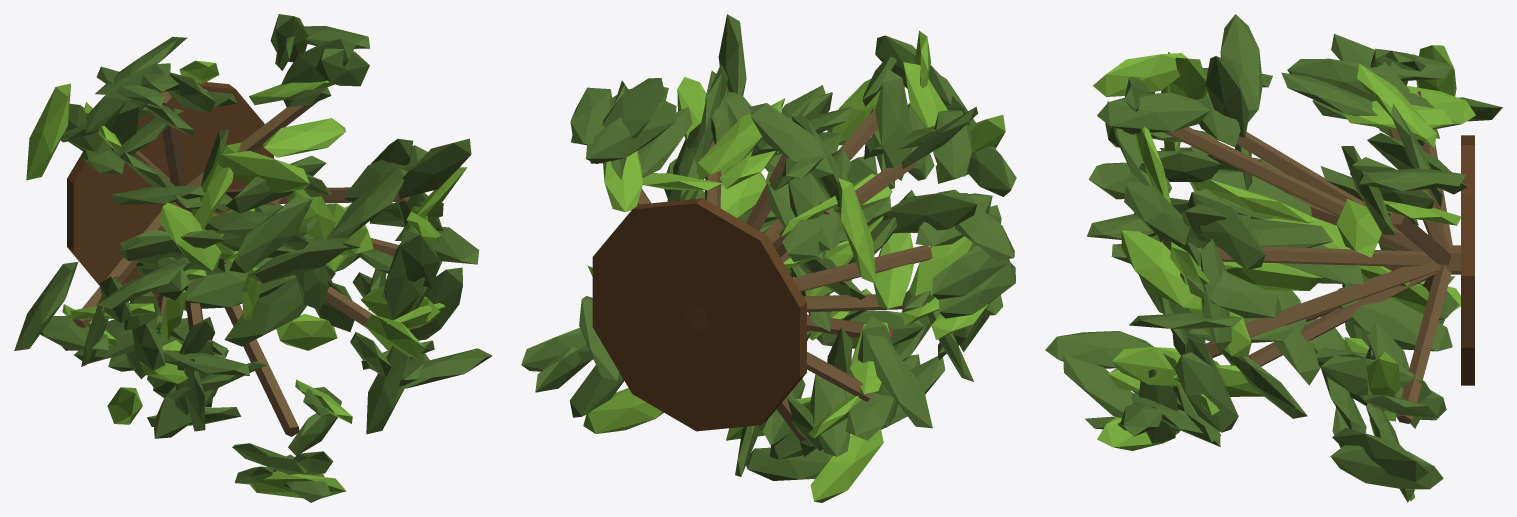
The model's file is 2_young.obj.
3 views of the same model, side by side, from view 1: azimuth 30°, elevation 25°; view 2: azimuth 150°, elevation 25°; view 3: azimuth 270°, elevation 25° (orthographic). The views are drawn at different scales.
Visible parts, largest first — view 1: redberry_2_young; view 2: redberry_2_young; view 3: redberry_2_young.
Part boxes in pixels (left/top/right/bottom): redberry_2_young: left=14, top=14, right=492, bottom=502; redberry_2_young: left=521, top=14, right=1016, bottom=502; redberry_2_young: left=1045, top=14, right=1502, bottom=502.
Size of the model in its own units: 0.3927 by 0.3728 by 0.3877.
